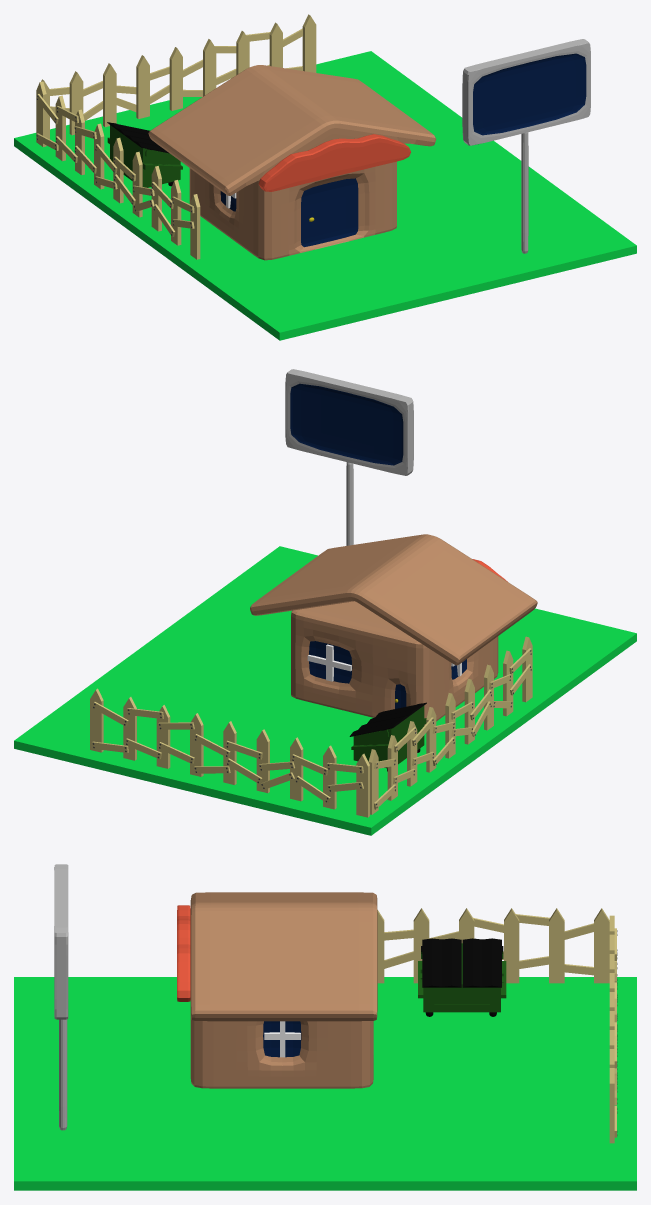
File: arcade_outside.glb
3 renders of one model, top to bottom at view 1: azimuth 30°, elevation 25°; view 2: azimuth 150°, elevation 25°; view 3: azimuth 270°, elevation 25°, orthographic. The views are drawn at different scales.
Visible parts, largest first — view 1: Plane.001, Plane, Cube.001, Cube; view 2: Plane.001, Plane, Cube.001, Cube; view 3: Plane.001, Plane, Cube.001, Cube, Cube.002.
Boxes of the visible parts, x1,y1,x2,y2 form: Plane.001: (14, 51, 636, 340); Plane: (148, 39, 590, 260); Cube.001: (36, 14, 316, 259); Cube: (107, 122, 182, 187); Plane.001: (14, 546, 636, 835); Plane: (250, 369, 537, 725); Cube.001: (90, 636, 532, 817); Cube: (349, 702, 426, 771); Plane.001: (14, 977, 636, 1190); Plane: (54, 864, 377, 1130); Cube.001: (377, 908, 617, 1143); Cube: (418, 938, 506, 1016); Cube.002: (264, 1021, 300, 1057).
Bounding box in the file's own units: 15.99 × 8.8 × 20.61.
